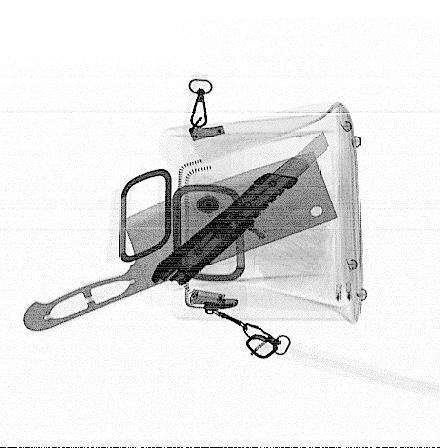Knife: (23, 151, 339, 333), (150, 130, 331, 287)
